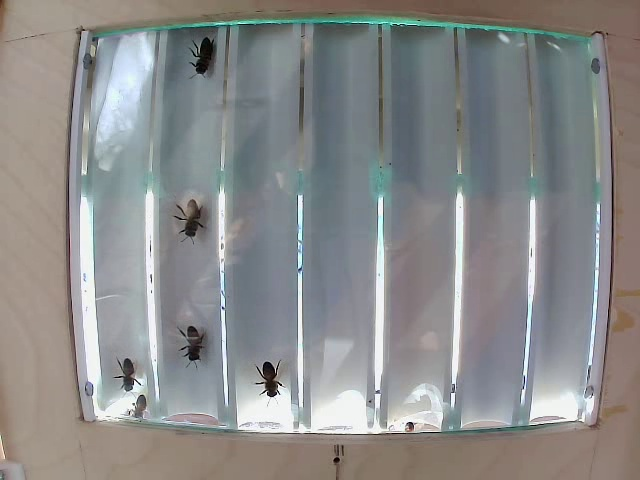bee: (183, 38, 228, 94), (176, 203, 212, 246), (254, 353, 283, 404), (178, 322, 208, 356), (112, 360, 144, 382)
